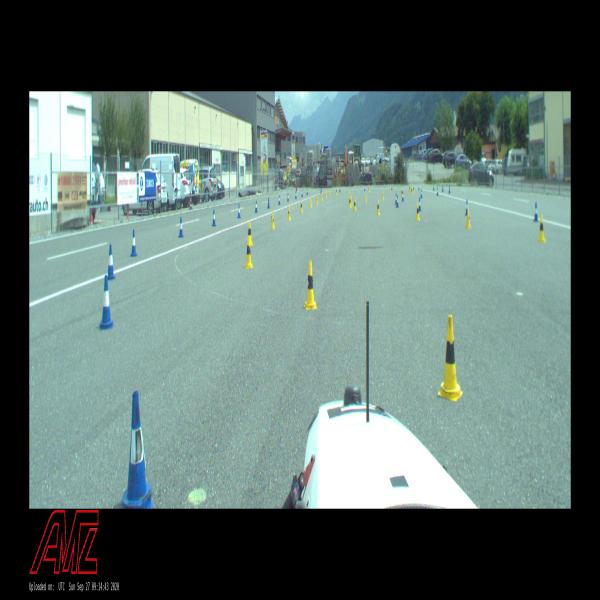blue_cone: (121, 391, 153, 508), (100, 275, 113, 329), (108, 244, 115, 279), (131, 230, 137, 256), (179, 217, 183, 237), (534, 202, 538, 221), (212, 209, 216, 226), (237, 204, 241, 218), (464, 199, 467, 214), (255, 201, 258, 212), (396, 196, 399, 207), (394, 193, 397, 204), (278, 195, 281, 205), (419, 198, 421, 211), (402, 192, 404, 202), (268, 198, 270, 208), (287, 193, 289, 202), (421, 189, 422, 198)
yellow_cone: (438, 315, 462, 401), (304, 261, 317, 309), (245, 236, 253, 267), (538, 215, 546, 243), (465, 208, 471, 228), (247, 222, 252, 244), (415, 204, 420, 220), (271, 211, 275, 229), (287, 205, 291, 221), (376, 201, 380, 214), (300, 200, 303, 213), (364, 192, 367, 202), (309, 197, 312, 207), (354, 198, 356, 211), (349, 196, 351, 208), (350, 195, 352, 205), (382, 190, 384, 199)
